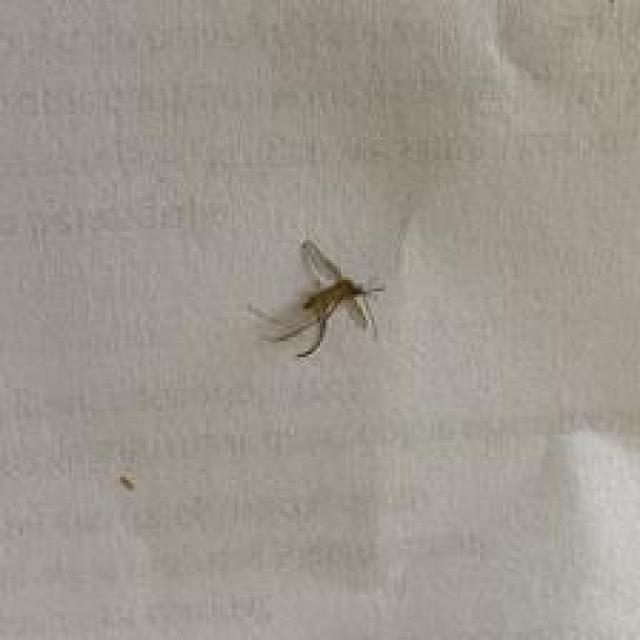Culex: (247, 237, 387, 360)
